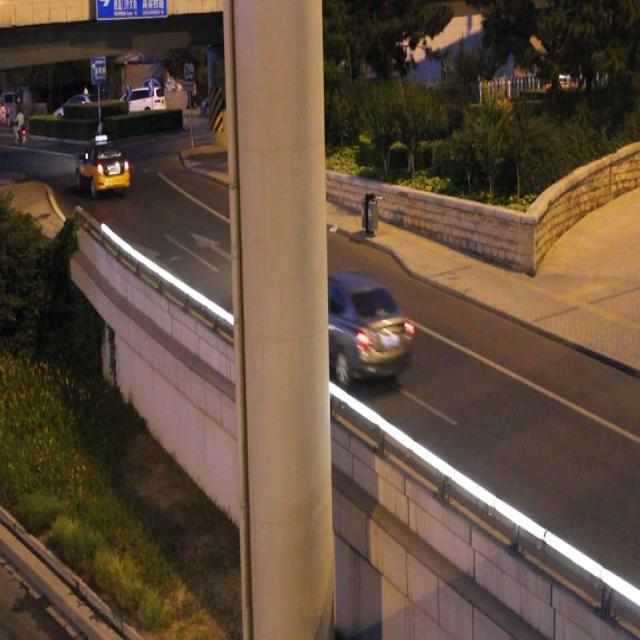car: (289, 275, 411, 382), (78, 143, 130, 195)
